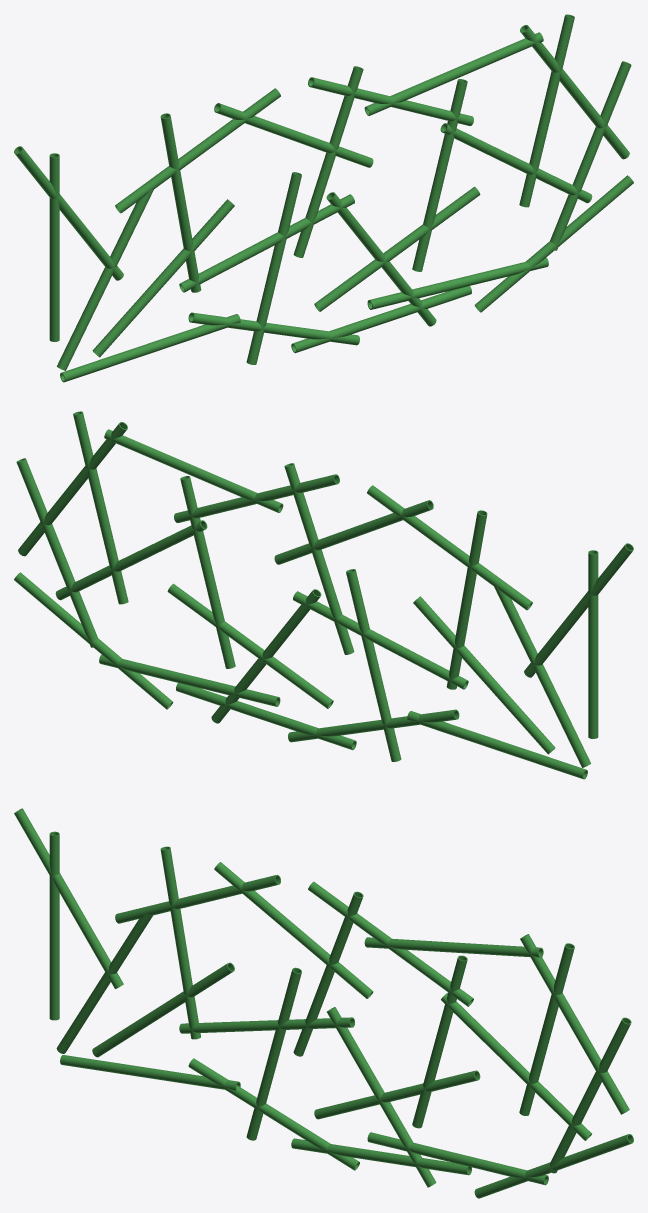
Rendered from Gaderobe.obj.
The picture shows the model from 3 angles, top to bottom: view 1: azimuth 30°, elevation 25°; view 2: azimuth 150°, elevation 25°; view 3: azimuth 330°, elevation 25°; orthographic projection.
Visible parts, largest first — view 1: Körper25, Körper3, Körper15, Körper12, Körper8, Körper23, Körper21, Körper9, Körper20, Körper18, Körper10, Körper16 (+12 smaller); view 2: Körper25, Körper3, Körper15, Körper12, Körper8, Körper23, Körper21, Körper9, Körper20, Körper18, Körper10, Körper16 (+12 smaller); view 3: Körper19, Körper1, Körper6, Körper22, Körper9, Körper14, Körper4, Körper5, Körper11, Körper17, Körper13, Körper12 (+12 smaller).
Boxes of the visible parts, x1,y1,x2,y2 form: Körper25: [92, 199, 234, 357]; Körper3: [57, 189, 153, 370]; Körper15: [314, 186, 480, 311]; Körper12: [246, 172, 301, 364]; Körper8: [115, 88, 280, 213]; Körper23: [519, 14, 574, 207]; Körper21: [550, 61, 631, 250]; Körper9: [49, 153, 59, 341]; Körper20: [293, 66, 363, 257]; Körper18: [412, 79, 467, 271]; Körper10: [474, 175, 633, 312]; Körper16: [364, 32, 543, 115]; Körper25: [413, 596, 555, 754]; Körper3: [494, 586, 590, 767]; Körper15: [167, 583, 333, 708]; Körper12: [346, 569, 401, 761]; Körper8: [367, 485, 532, 610]; Körper23: [73, 411, 128, 604]; Körper21: [16, 458, 97, 647]; Körper9: [588, 550, 598, 738]; Körper20: [284, 463, 354, 654]; Körper18: [180, 476, 235, 668]; Körper10: [14, 572, 173, 709]; Körper16: [104, 429, 283, 512]; Körper19: [214, 862, 373, 998]; Körper1: [14, 808, 123, 988]; Körper6: [520, 934, 629, 1114]; Körper22: [441, 992, 591, 1140]; Körper9: [49, 831, 59, 1020]; Körper14: [308, 881, 473, 1006]; Körper4: [160, 846, 200, 1039]; Körper5: [327, 1007, 436, 1187]; Körper11: [188, 1058, 359, 1170]; Körper17: [367, 1132, 548, 1185]; Körper13: [60, 1055, 240, 1090]; Körper12: [246, 967, 301, 1140].
Size of the model in its own units: 701 by 303 by 10.
